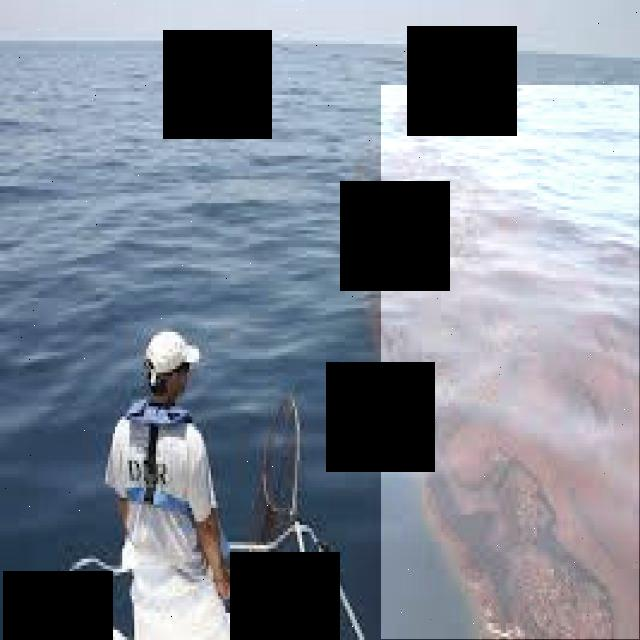oil spill: (381, 86, 639, 640)
